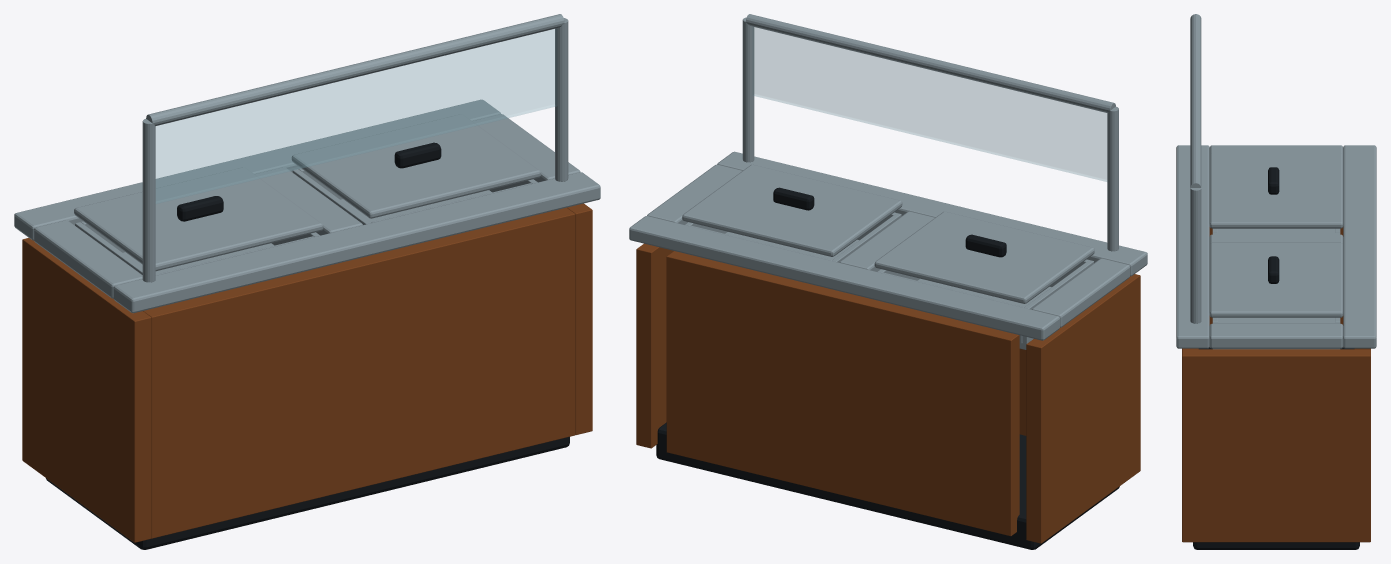
The model's file is edited.glb.
3 views of the same model, side by side, from view 1: azimuth 30°, elevation 25°; view 2: azimuth 150°, elevation 25°; view 3: azimuth 270°, elevation 25° (orthographic). The views are drawn at different scales.
Parts seen in each view (by area): view 1: BODY_Front, GUARD_ClearPane, BODY_Side.001, COUNTER_Edge.001, LID.001, LID, COUNTER_Edge, GUARD_TopRail, PLINTH, BODY_Side, COUNTER_Divider.001, COUNTER_Divider.002 (+5 smaller); view 2: BODY_Back, GUARD_ClearPane, BODY_Side.001, COUNTER_Edge, LID, LID.001, BODY_Side, COUNTER_Edge.001, PLINTH, GUARD_TopRail, COUNTER_Divider.001, COUNTER_Divider (+6 smaller); view 3: BODY_Side, LID, LID.001, COUNTER_Edge, COUNTER_Edge.001, COUNTER_Divider, GUARD_TopRail, GUARD_Post.001, PLINTH, COUNTER_Divider.001, COUNTER_Divider.002, WELL_Base.001 (+4 smaller).
Part boxes in pixels (box(x1,y1,x2,y2)): BODY_Front: box(143, 207, 575, 538); GUARD_ClearPane: box(156, 29, 556, 203); BODY_Side.001: box(22, 238, 151, 542); COUNTER_Edge.001: box(113, 172, 600, 313); LID.001: box(291, 114, 540, 218); LID: box(74, 167, 323, 271); COUNTER_Edge: box(14, 99, 500, 240); GUARD_TopRail: box(146, 14, 564, 125); PLINTH: box(46, 437, 569, 549); BODY_Side: box(567, 203, 592, 434); COUNTER_Divider.001: box(34, 220, 142, 298); COUNTER_Divider.002: box(255, 167, 362, 235); BODY_Back: box(666, 251, 1019, 536); GUARD_ClearPane: box(753, 27, 1106, 181); BODY_Side.001: box(1026, 274, 1140, 543); COUNTER_Edge: box(629, 216, 1059, 340); LID: box(874, 211, 1094, 303); LID.001: box(682, 164, 902, 256); BODY_Side: box(636, 243, 673, 448); COUNTER_Edge.001: box(717, 151, 1147, 276); PLINTH: box(656, 422, 1119, 549); GUARD_TopRail: box(745, 14, 1115, 112); COUNTER_Divider.001: box(1032, 258, 1130, 327); COUNTER_Divider: box(647, 164, 742, 224); BODY_Side: box(1182, 349, 1370, 542); LID: box(1209, 153, 1343, 228); LID.001: box(1209, 242, 1343, 317); COUNTER_Edge: box(1343, 145, 1376, 348); COUNTER_Edge.001: box(1176, 145, 1209, 348); COUNTER_Divider: box(1209, 323, 1343, 348); GUARD_TopRail: box(1190, 14, 1201, 187); GUARD_Post.001: box(1190, 188, 1201, 323); PLINTH: box(1193, 347, 1359, 549); COUNTER_Divider.001: box(1209, 145, 1343, 155); COUNTER_Divider.002: box(1209, 234, 1343, 244); WELL_Base.001: box(1218, 317, 1334, 322).
Bounding box in the file's own units: 1.64 × 1.45 × 0.72.
